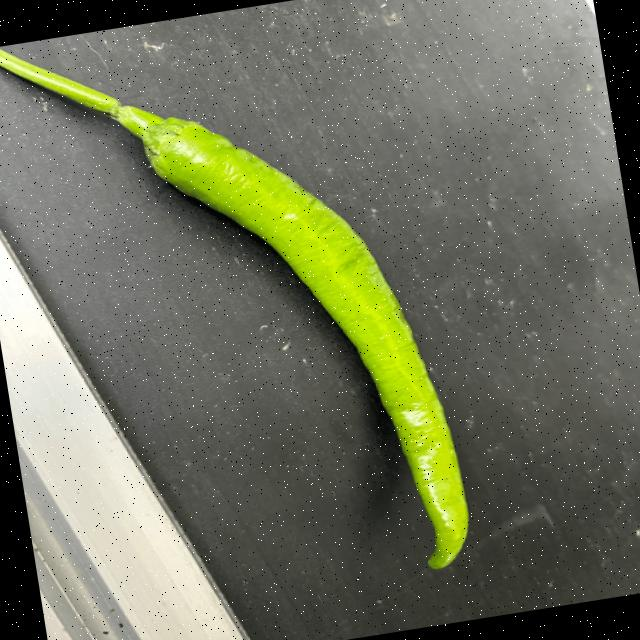chili: (143, 113, 468, 572)
